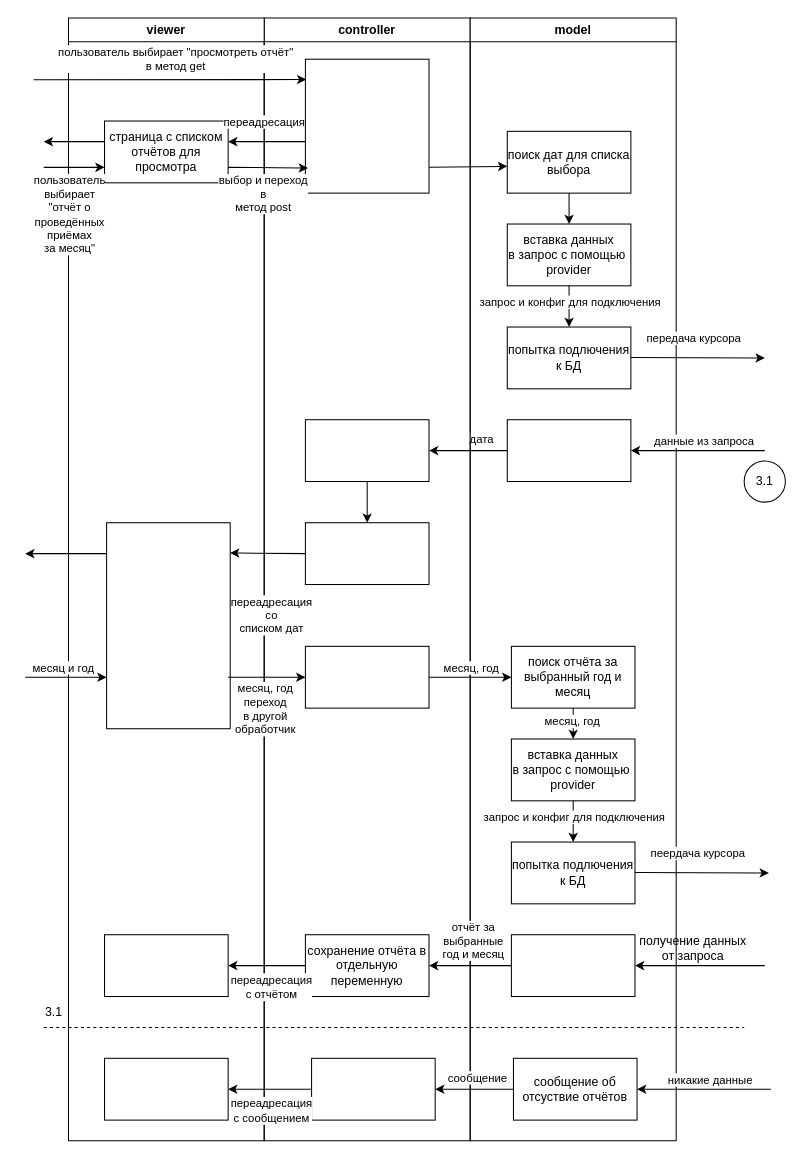
The diagram is 803 pixels wide and 1159 high, and some of its shapes have lost their labels. The centre of each missing label's shape, as x and y in pixels:
даты для выбора просмотра отчёта: point 568,450
сохранение дат в отдельную переменную: point 366,450
сохранение сообщения в отдельную переменную: point 373,1088
страница выбора просмотра отчёта за определённую дату: point 168,625
страница с отчётом: point 166,965
страница с сообщением: point 166,1088
